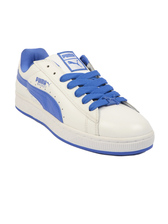shoes: (8, 46, 161, 156)
